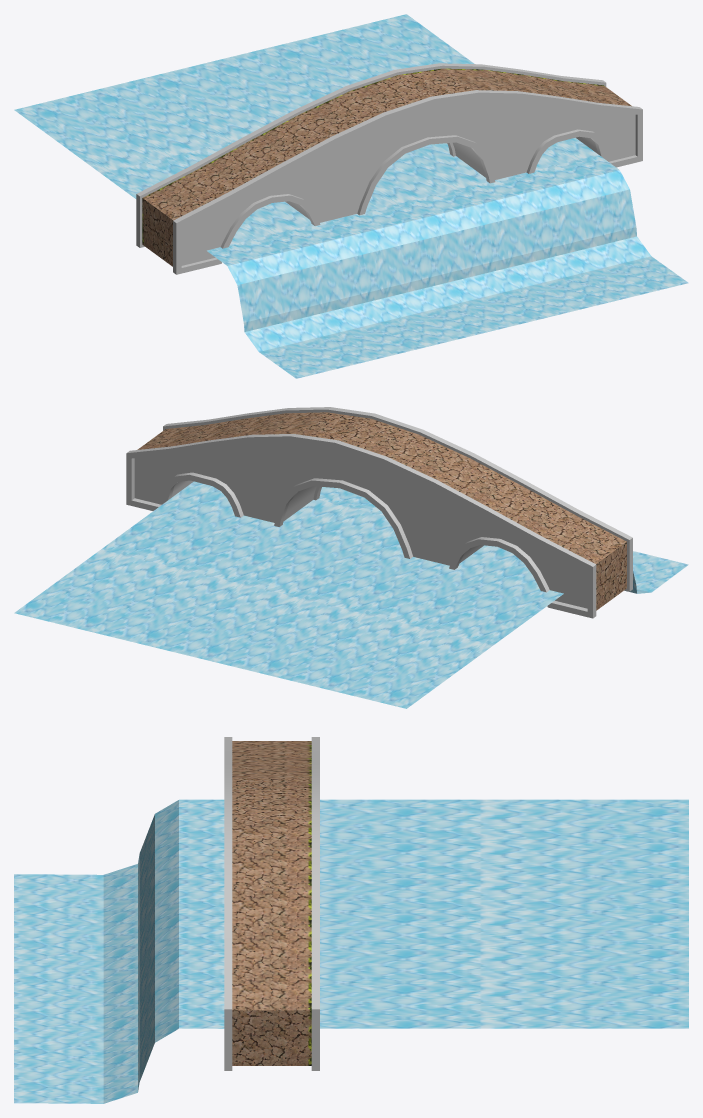
File: bridge_01.FBX
3 renders of one model, top to bottom at view 1: azimuth 30°, elevation 25°; view 2: azimuth 150°, elevation 25°; view 3: azimuth 270°, elevation 25°, orthographic. The views are drawn at different scales.
Parts seen in each view (by area): view 1: agua001, Line001; view 2: agua001, Line001; view 3: agua001, Line001.
Part boxes in pixels (x1,y1,x2,y2): agua001: [14, 14, 688, 378]; Line001: [136, 63, 642, 274]; agua001: [14, 481, 688, 708]; Line001: [126, 407, 632, 618]; agua001: [14, 799, 688, 1103]; Line001: [224, 737, 319, 1070].
Size of the model in its own units: 20.2 by 21.17 by 6.65.
